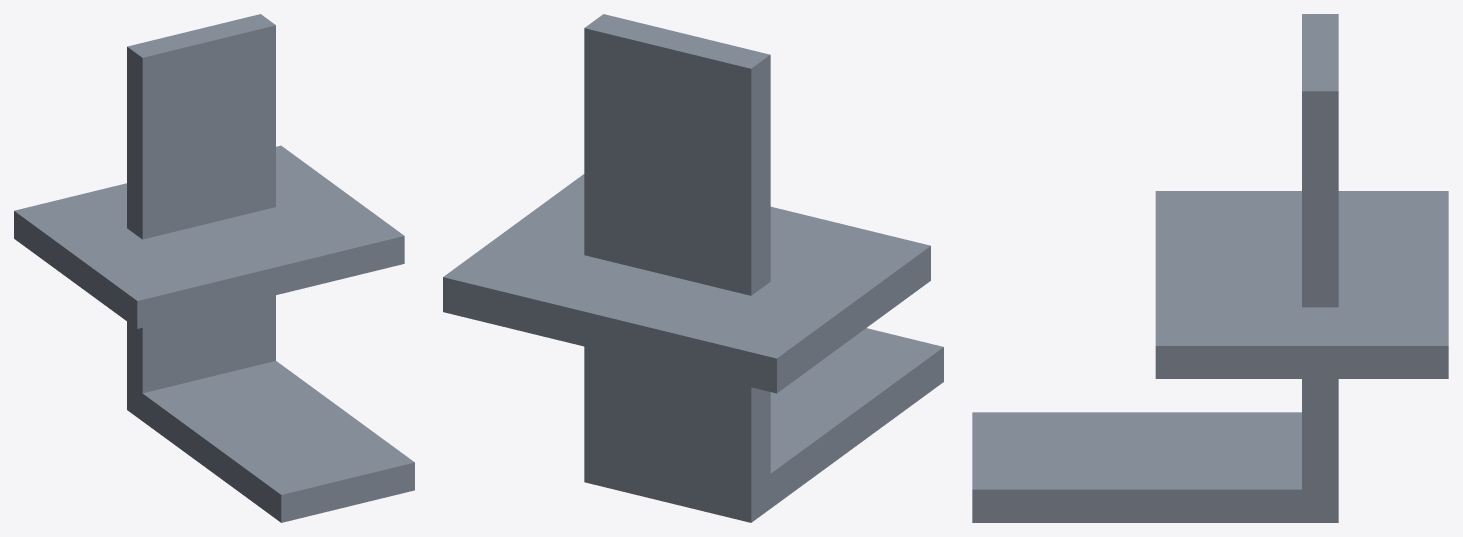
Rendered from step-1-preview-2.glb.
The picture shows the model from 3 angles, left to right: view 1: azimuth 30°, elevation 25°; view 2: azimuth 150°, elevation 25°; view 3: azimuth 270°, elevation 25°; orthographic projection. The views are drawn at different scales.
Parts seen in each view (by area): view 1: preview_1, preview_4, preview_16, preview_13, preview_8, preview_12, preview_17, preview_6, preview_5, preview_0; view 2: preview_2, preview_4, preview_11, preview_7, preview_16, preview_12, preview_6, preview_5, preview_0; view 3: preview_4, preview_16, preview_14, preview_9, preview_3, preview_0.
Part boxes in pixels (x1,y1,x2,y2): preview_1: (142,25,275,239); preview_4: (14,145,404,300); preview_16: (143,361,414,494); preview_13: (142,295,275,393); preview_8: (137,236,404,328); preview_12: (127,321,281,522); preview_17: (281,462,414,522); preview_6: (14,211,137,328); preview_5: (127,47,142,239); preview_0: (127,14,275,57); preview_2: (584,28,751,295); preview_4: (443,174,930,358); preview_11: (584,346,751,522); preview_7: (443,277,776,393); preview_16: (770,328,943,473); preview_12: (751,347,943,522); preview_6: (777,246,930,392); preview_5: (751,55,770,295); preview_0: (585,14,769,68); preview_4: (1155,191,1448,345); preview_16: (972,412,1301,489); preview_14: (972,379,1338,522); preview_9: (1155,346,1448,378); preview_3: (1302,91,1338,307); preview_0: (1302,14,1338,91).
Bounding box in the file's own units: 0.05 × 0.065 × 0.065.
